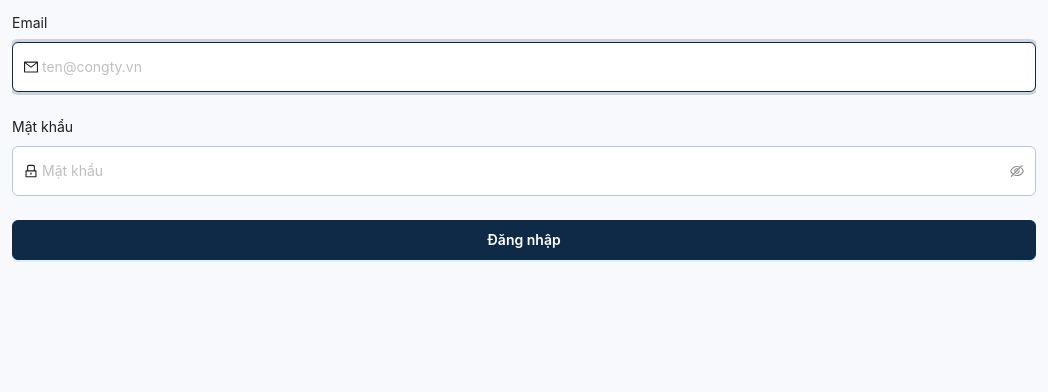
Test: LoginForm › falls back to the generic message for unknown error codes
In the field labelled "Email": {"x": 533, "y": 67} [42,47,1024,87], type "admin@example.com"
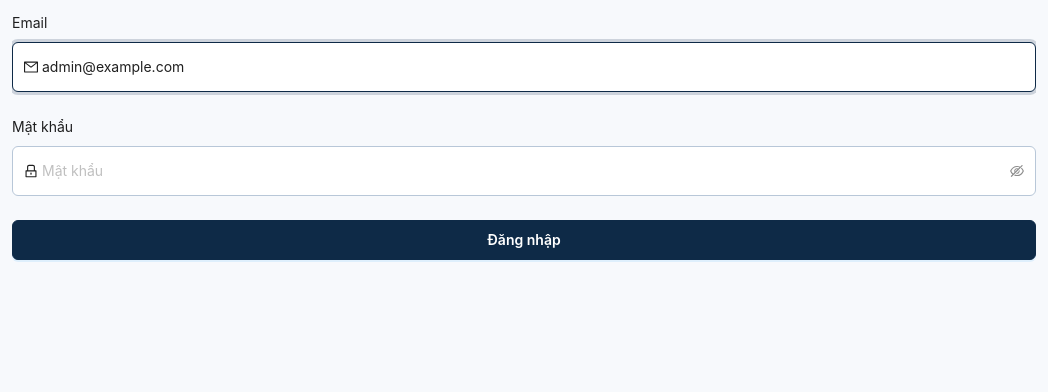
In the password field labelled "Mật khẩu": {"x": 524, "y": 171} [42,151,1006,191], type "wrong-password"
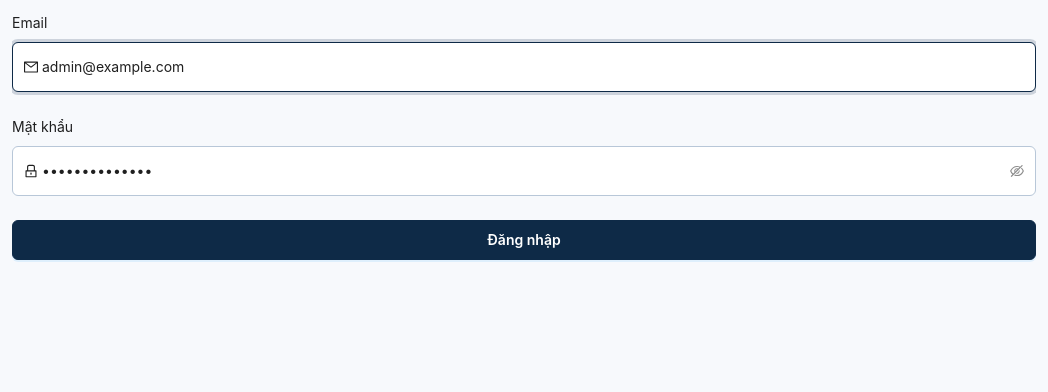
Click the button "Đăng nhập": {"x": 524, "y": 240} [12,220,1036,260]
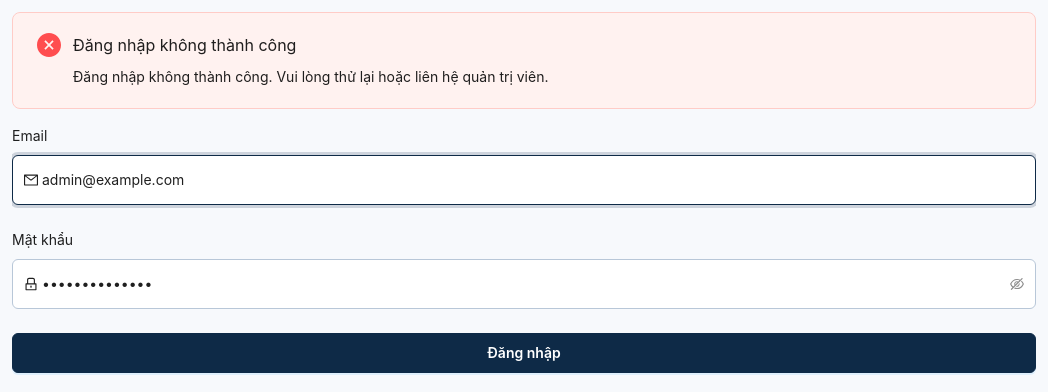
Check: the text "Đăng nhập không thành công. Vui lòng thử lại hoặc liên hệ quản trị viên." is shown, box [73,68,548,85]
